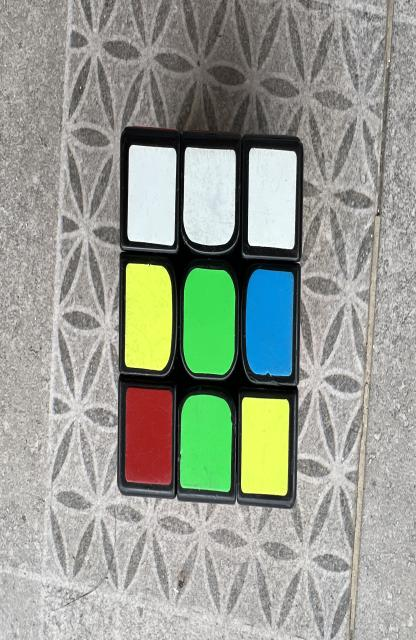Blue: (245, 268, 293, 377)
Green: (183, 268, 236, 375), (180, 395, 232, 492)
Red: (125, 387, 172, 485)
White: (183, 147, 236, 245), (248, 148, 297, 250), (128, 145, 176, 245)
Yellow: (125, 263, 172, 370), (241, 397, 289, 495)
